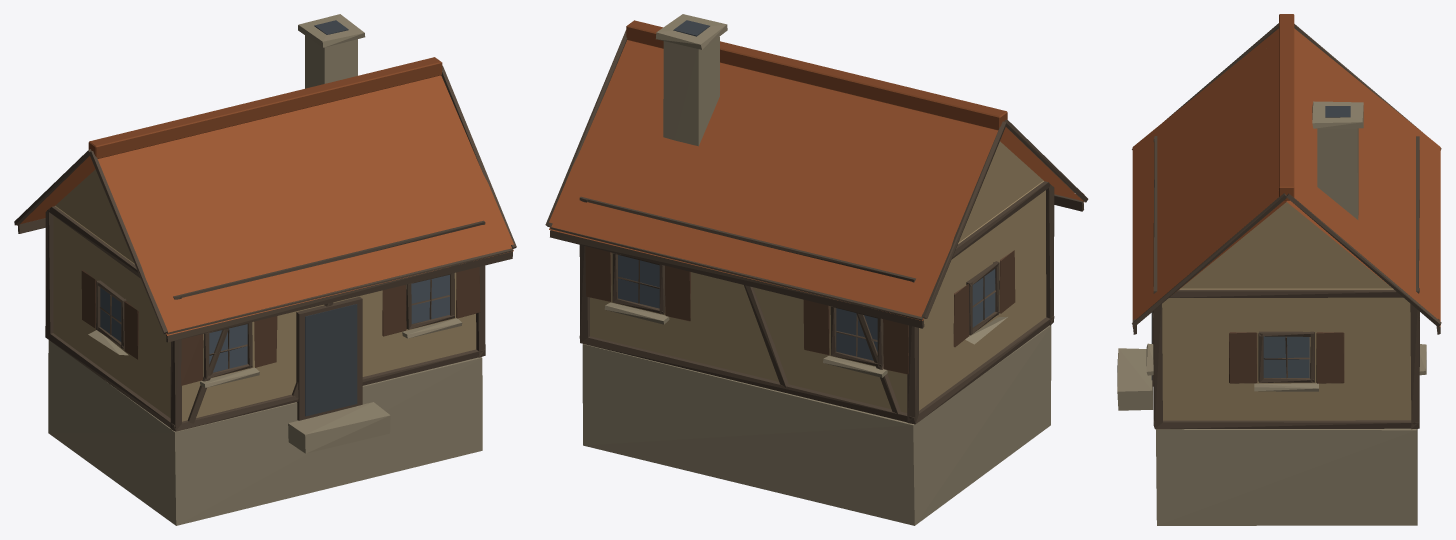
File: house-lod1.glb
3 renders of one model, left to right at view 1: azimuth 30°, elevation 25°; view 2: azimuth 150°, elevation 25°; view 3: azimuth 270°, elevation 25°, orthographic. The views are drawn at different scales.
Bounding box in the file's own units: 8.14 × 8.24 × 6.32.
